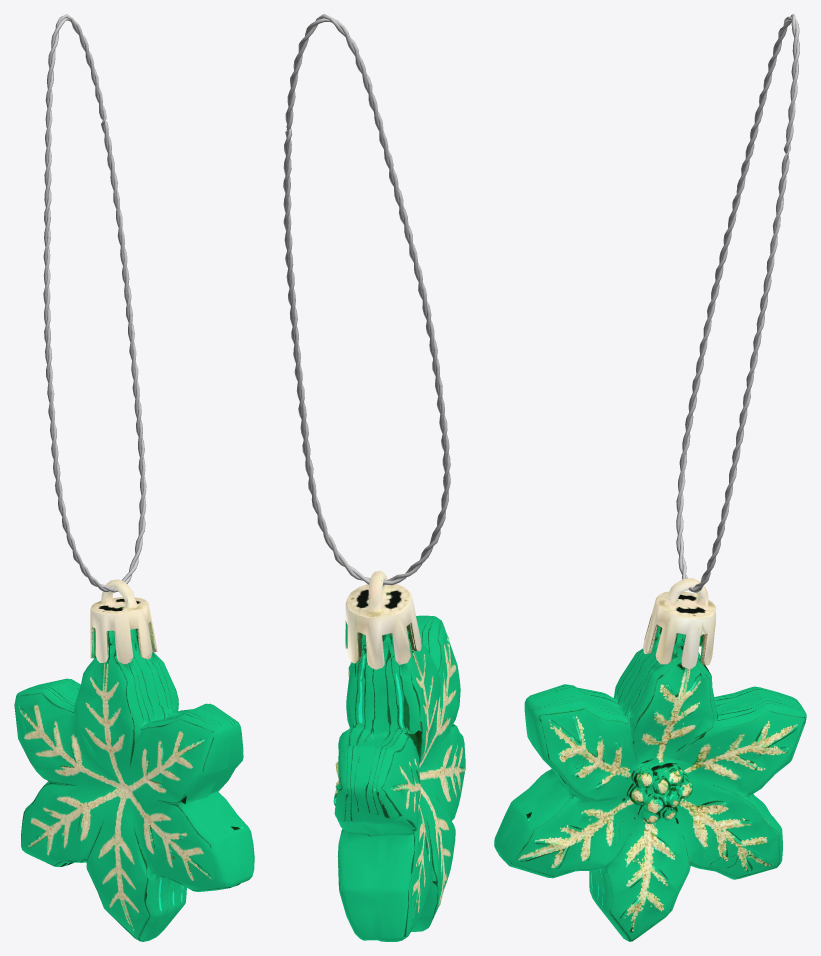
The model's file is Emerald_Glitter_Holly.glb.
The picture shows the model from 3 angles, left to right: view 1: azimuth 30°, elevation 25°; view 2: azimuth 150°, elevation 25°; view 3: azimuth 270°, elevation 25°; orthographic projection. The views are drawn at different scales.
Visible parts, largest first — view 1: Mesh1.0, GN Instance; view 2: Mesh1.0, GN Instance; view 3: Mesh1.0, GN Instance.
Part boxes in pixels (left/top/right/bottom): Mesh1.0: left=14, top=579, right=254, bottom=941; GN Instance: left=43, top=14, right=146, bottom=592; Mesh1.0: left=333, top=571, right=465, bottom=941; GN Instance: left=283, top=14, right=450, bottom=585; Mesh1.0: left=494, top=578, right=806, bottom=941; GN Instance: left=676, top=14, right=799, bottom=592.
Bounding box in the file's own units: 0.0225 × 0.1521 × 0.0469.
2 materials, 1 textured.
